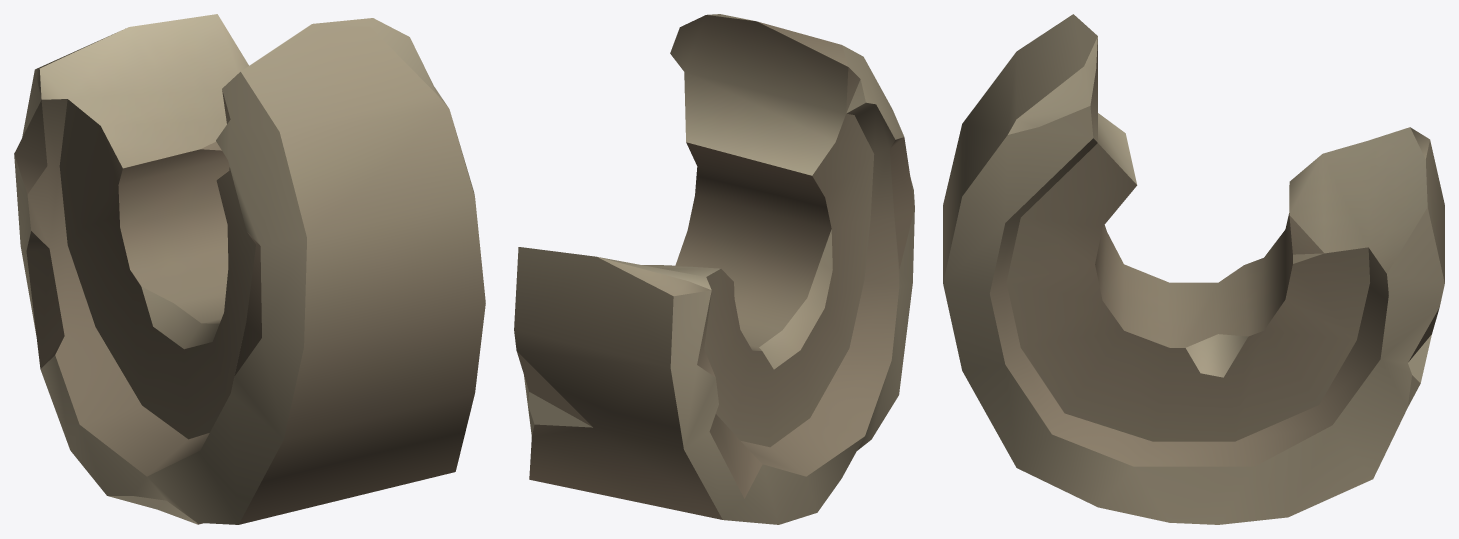
File: Wheel_1B.fbx
3 renders of one model, left to right at view 1: azimuth 30°, elevation 25°; view 2: azimuth 150°, elevation 25°; view 3: azimuth 270°, elevation 25°, orthographic. The views are drawn at different scales.
Parts seen in each view (by area): view 1: Wheel_1B; view 2: Wheel_1B; view 3: Wheel_1B.
Boxes of the visible parts, x1=… form: Wheel_1B: x1=14, y1=14, x2=485, y2=524; Wheel_1B: x1=514, y1=14, x2=914, y2=524; Wheel_1B: x1=943, y1=14, x2=1444, y2=524.
Size of the model in its own units: 0.9856 by 1.71 by 1.79.
